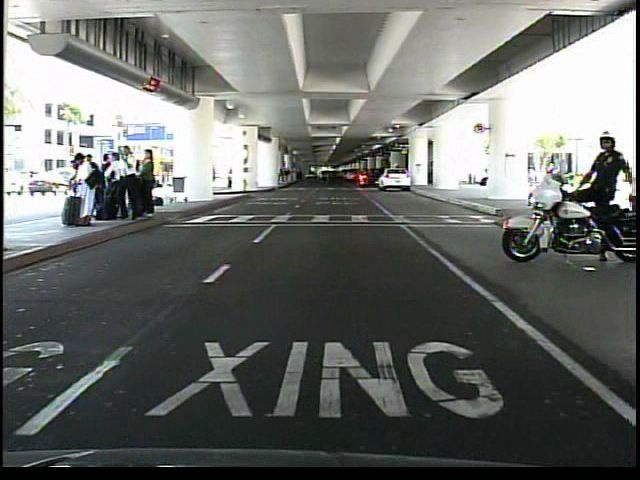person: (575, 128, 630, 265), (479, 161, 492, 192)
